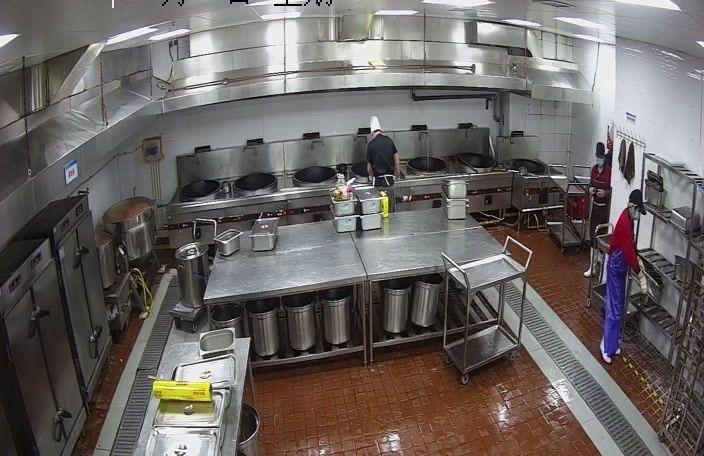apron: (636, 266, 650, 294)
mask: (631, 205, 643, 221), (593, 156, 606, 168)
